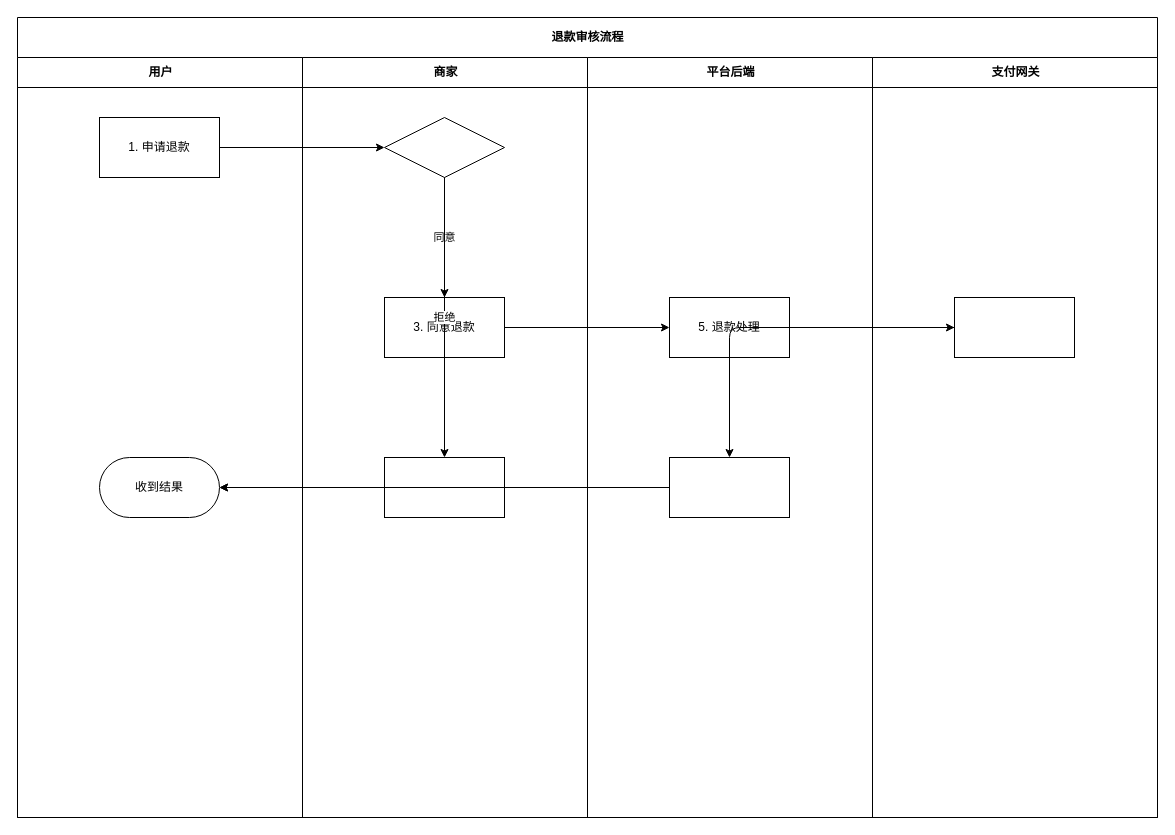
The diagram is 1175 pixels wide and 835 high, and some of its shapes have lost their labels. Each missing label, with the centre of its shape:
2. 审核: point (444, 147)
4. 拒绝退款: point (444, 487)
6. 更新订单: point (729, 487)
7. 执行退款: point (1014, 327)
